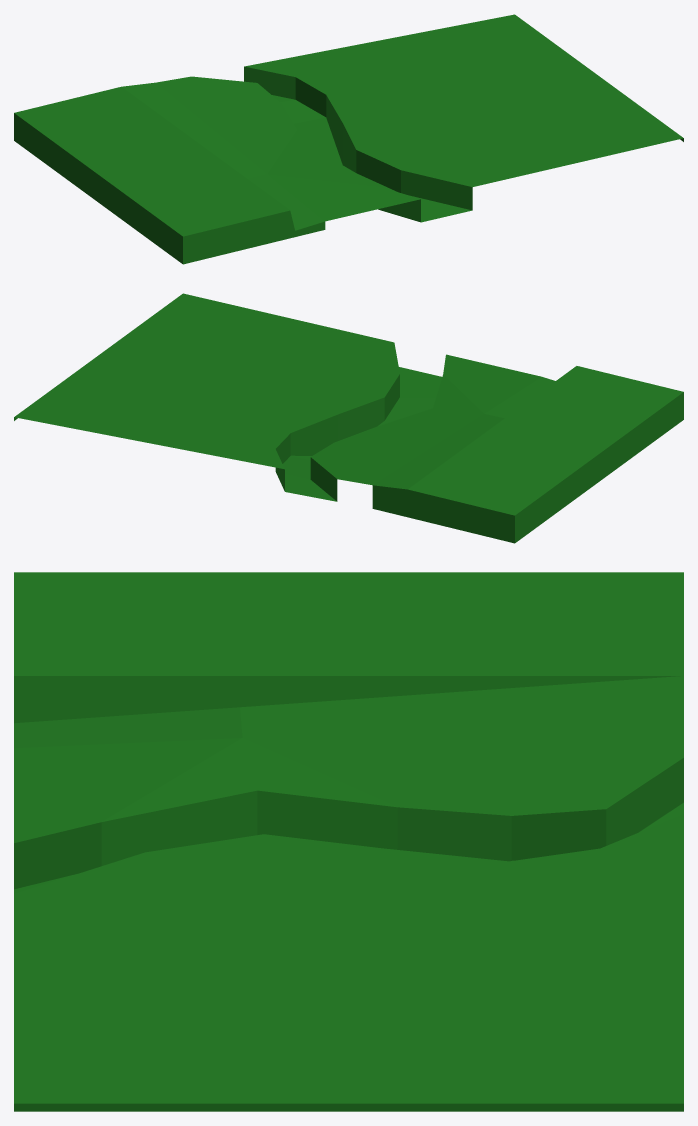
File: Terrain.FBX
3 renders of one model, top to bottom at view 1: azimuth 30°, elevation 25°; view 2: azimuth 150°, elevation 25°; view 3: azimuth 270°, elevation 25°, orthographic. The views are drawn at different scales.
Visible parts, largest first — view 1: superficie; view 2: superficie; view 3: superficie.
Part boxes in pixels (x1,y1,x2,y2): superficie: [14, 14, 683, 264]; superficie: [14, 293, 683, 543]; superficie: [14, 572, 683, 1111].
Bounding box in the file's own units: 72.55 × 8.07 × 42.41.
